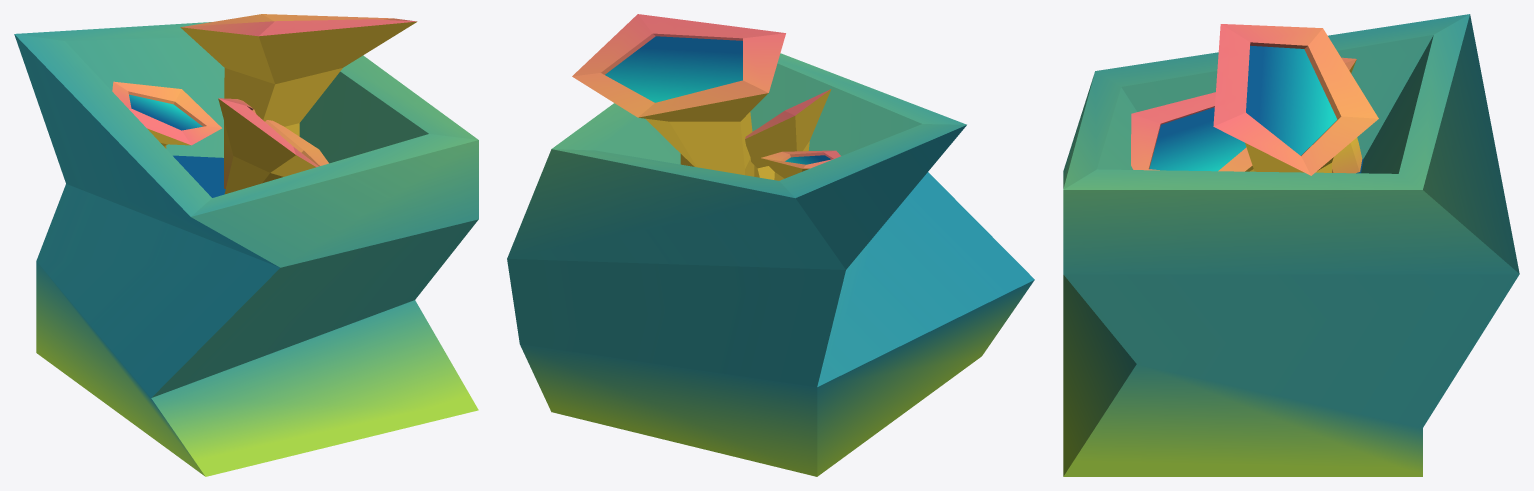
File: SM_PottedPlant_B.fbx
3 views of the same model, side by side, from view 1: azimuth 30°, elevation 25°; view 2: azimuth 150°, elevation 25°; view 3: azimuth 270°, elevation 25° (orthographic). The views are drawn at different scales.
Parts seen in each view (by area): view 1: pottedPlant_Type2, PotPlant_Type2, PotPlant_Type2.001, PotPlant_Type2.002; view 2: pottedPlant_Type2, PotPlant_Type2, PotPlant_Type2.001, PotPlant_Type2.002; view 3: pottedPlant_Type2, PotPlant_Type2, PotPlant_Type2.001, PotPlant_Type2.002.
Part boxes in pixels (x1,y1,x2,y2): pottedPlant_Type2: [14, 22, 478, 476]; PotPlant_Type2: [180, 14, 417, 188]; PotPlant_Type2.001: [218, 98, 328, 194]; PotPlant_Type2.002: [112, 81, 221, 148]; pottedPlant_Type2: [507, 53, 1034, 476]; PotPlant_Type2: [572, 14, 785, 176]; PotPlant_Type2.001: [745, 89, 831, 179]; PotPlant_Type2.002: [761, 150, 840, 180]; pottedPlant_Type2: [1063, 14, 1519, 476]; PotPlant_Type2: [1213, 24, 1378, 175]; PotPlant_Type2.001: [1131, 92, 1254, 171]; PotPlant_Type2.002: [1332, 57, 1362, 173].
Size of the model in its own units: 60.97 by 58.97 by 55.62.
